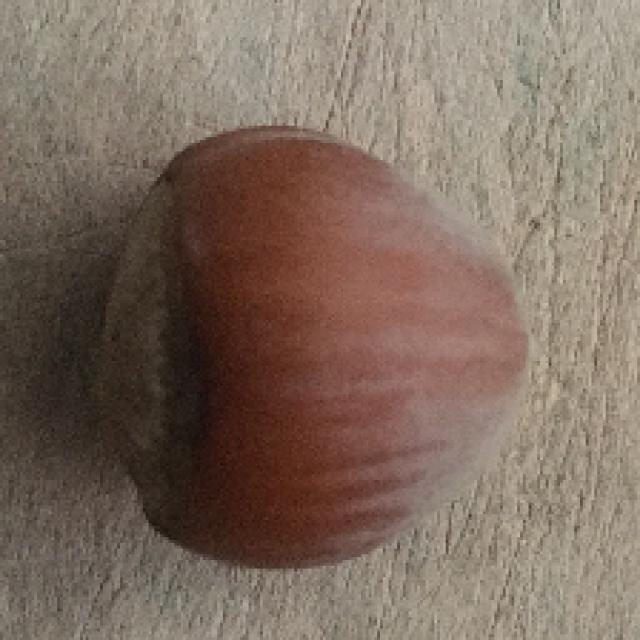qualityHazelnut: (94, 123, 531, 570)
